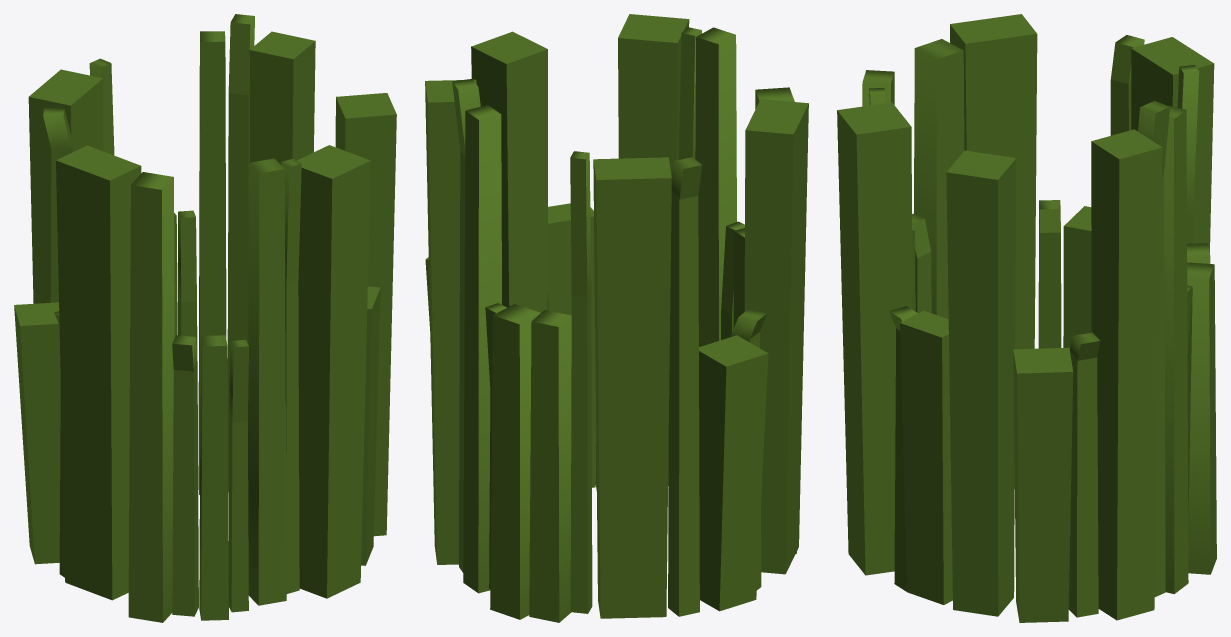
File: grass2_cut2.fbx
3 views of the same model, side by side, from view 1: azimuth 30°, elevation 25°; view 2: azimuth 150°, elevation 25°; view 3: azimuth 270°, elevation 25° (orthographic). The views are drawn at different scales.
Visible parts, largest first — view 1: Cube.024_Cube.002; view 2: Cube.024_Cube.002; view 3: Cube.024_Cube.002.
Boxes of the visible parts, <box> form: Cube.024_Cube.002: <box>14,14,396,622</box>; Cube.024_Cube.002: <box>425,14,808,622</box>; Cube.024_Cube.002: <box>837,14,1216,622</box>.
Size of the model in its own units: 15.53 by 20.75 by 14.48.
